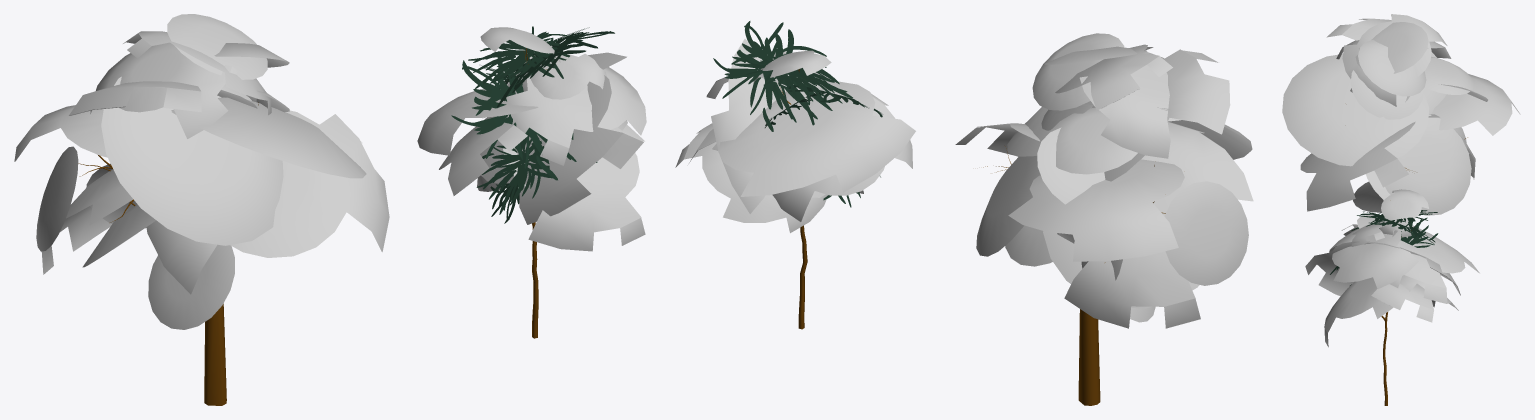
File: TreesWithLeaves.fbx
3 renders of one model, left to right at view 1: azimuth 30°, elevation 25°; view 2: azimuth 150°, elevation 25°; view 3: azimuth 270°, elevation 25°, orthographic. The views are drawn at different scales.
Visible parts, largest first — view 1: pSphere10, pSphere18, pSphere32, pSphere35, pSphere11, pSphere27, pSphere1, pSphere21, pSphere2, pSphere14, pSphere7, pSphere30 (+14 smaller); view 2: pSphere30, pSphere14, pSphere12, pSphere15, pSphere1, pSphere7, pSphere25, pSphere8, pSphere19, pSphere32, pSphere9, pSphere6 (+14 smaller); view 3: pSphere11, pSphere19, pSphere18, pSphere27, pSphere12, pSphere30, pSphere6, pSphere5, pSphere35, pSphere2, pSphere4, pSphere23 (+11 smaller).
Boxes of the visible parts, x1,y1,x2,y2 form: pSphere10: [101, 76, 283, 245]; pSphere18: [146, 110, 389, 294]; pSphere32: [480, 52, 643, 224]; pSphere35: [482, 117, 645, 251]; pSphere11: [171, 97, 366, 178]; pSphere27: [502, 67, 646, 165]; pSphere1: [90, 42, 240, 138]; pSphere21: [148, 244, 234, 329]; pSphere2: [167, 14, 267, 79]; pSphere14: [41, 169, 133, 274]; pSphere7: [69, 81, 257, 115]; pSphere30: [417, 83, 538, 155]; pSphere30: [689, 81, 915, 196]; pSphere14: [1064, 122, 1253, 328]; pSphere12: [1008, 159, 1184, 261]; pSphere15: [1164, 181, 1248, 285]; pSphere1: [1079, 47, 1181, 158]; pSphere7: [1057, 49, 1230, 243]; pSphere25: [713, 21, 852, 131]; pSphere8: [1049, 107, 1137, 174]; pSphere19: [976, 156, 1040, 256]; pSphere32: [711, 39, 827, 213]; pSphere9: [675, 123, 827, 233]; pSphere6: [1032, 33, 1124, 110]; pSphere11: [1282, 54, 1429, 166]; pSphere19: [1385, 115, 1471, 215]; pSphere18: [1300, 114, 1439, 211]; pSphere27: [1329, 222, 1418, 288]; pSphere12: [1431, 74, 1520, 135]; pSphere30: [1357, 213, 1479, 303]; pSphere6: [1358, 39, 1426, 96]; pSphere5: [1342, 14, 1447, 106]; pSphere35: [1324, 275, 1425, 347]; pSphere2: [1355, 22, 1428, 73]; pSphere4: [1350, 70, 1423, 119]; pSphere23: [1379, 189, 1428, 237].
Bounding box in the file's own units: 57.07 × 36.11 × 29.5.
